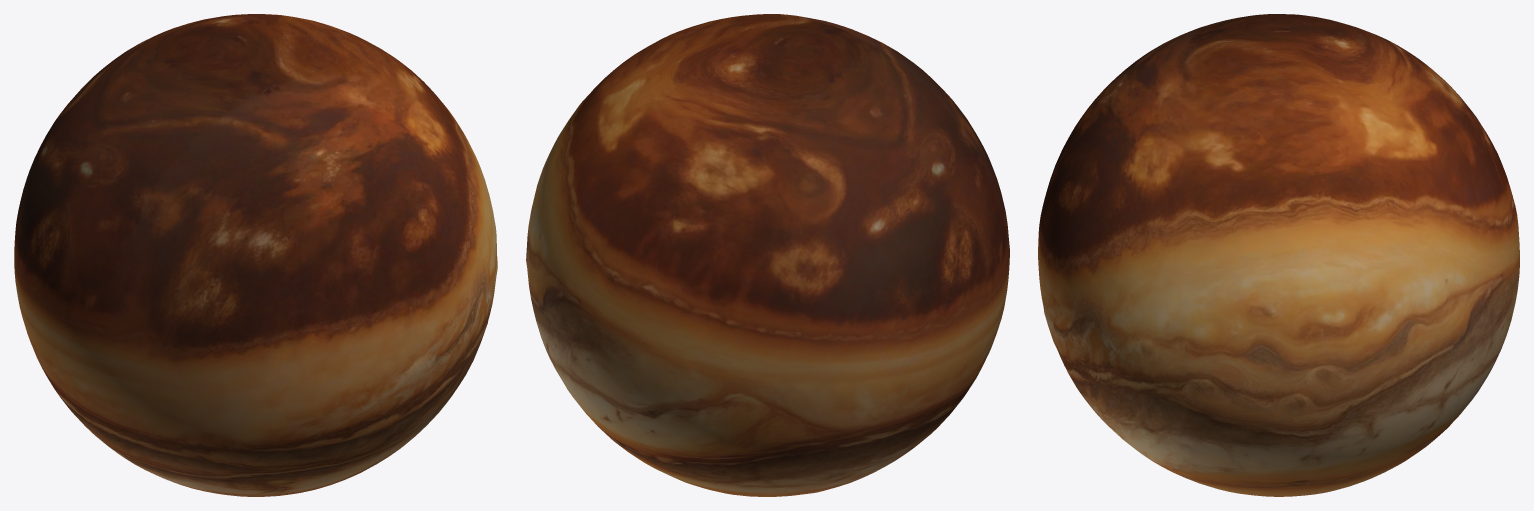
Rendered from dry_planet_1.glb.
3 renders of one model, left to right at view 1: azimuth 30°, elevation 25°; view 2: azimuth 150°, elevation 25°; view 3: azimuth 270°, elevation 25°, orthographic.
Parts seen in each view (by area): view 1: Mesh_0.014; view 2: Mesh_0.014; view 3: Mesh_0.014.
Part boxes in pixels (x1,y1,x2,y2): Mesh_0.014: (14,14,497,496); Mesh_0.014: (526,14,1009,496); Mesh_0.014: (1038,14,1519,496).
Size of the model in its own units: 2 by 2 by 2.
Materials: 1 (1 with a texture image).
